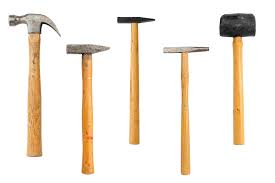hammer: (7, 10, 61, 158), (162, 45, 210, 176), (65, 42, 111, 175), (116, 15, 157, 145), (218, 12, 258, 145)
